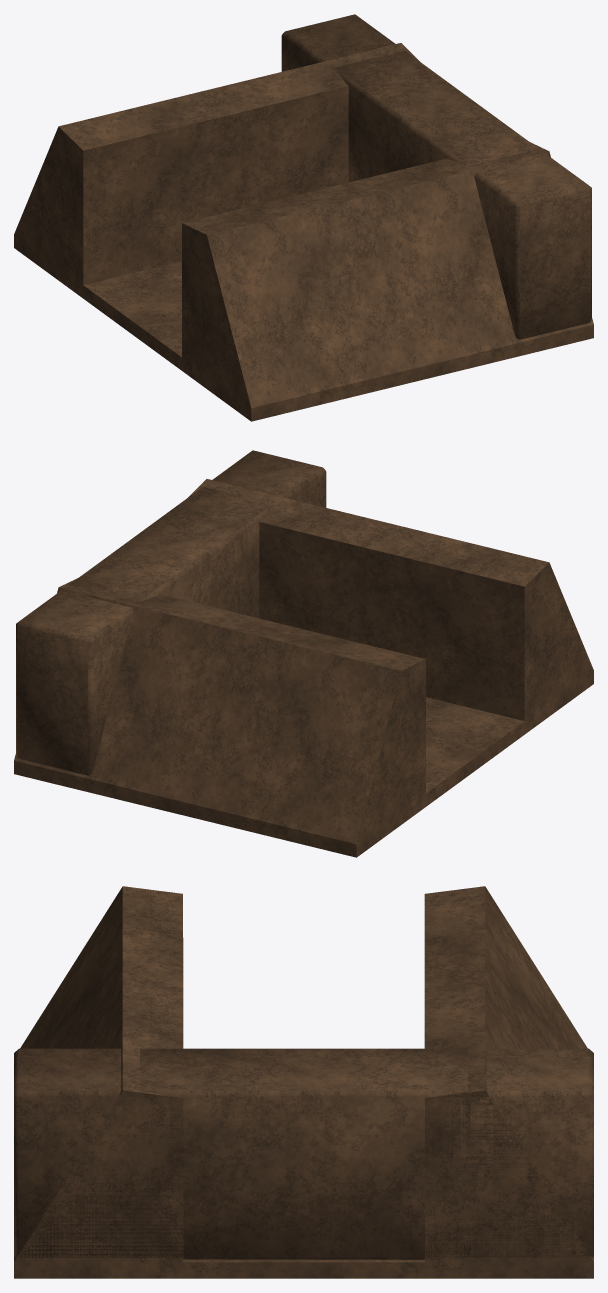
Rendered from SM_Trinchera_Final.fbx.
3 views of the same model, one above another, from view 1: azimuth 30°, elevation 25°; view 2: azimuth 150°, elevation 25°; view 3: azimuth 270°, elevation 25° (orthographic). The views are drawn at different scales.
Visible parts, largest first — view 1: SM_Trinchera_Final; view 2: SM_Trinchera_Final; view 3: SM_Trinchera_Final.
Boxes of the visible parts, bbox=[...] form: SM_Trinchera_Final: bbox=[14, 14, 593, 421]; SM_Trinchera_Final: bbox=[14, 450, 593, 857]; SM_Trinchera_Final: bbox=[14, 886, 593, 1278].
Size of what is drawn, in the model's own units: 4 by 4.8 by 1.72.
